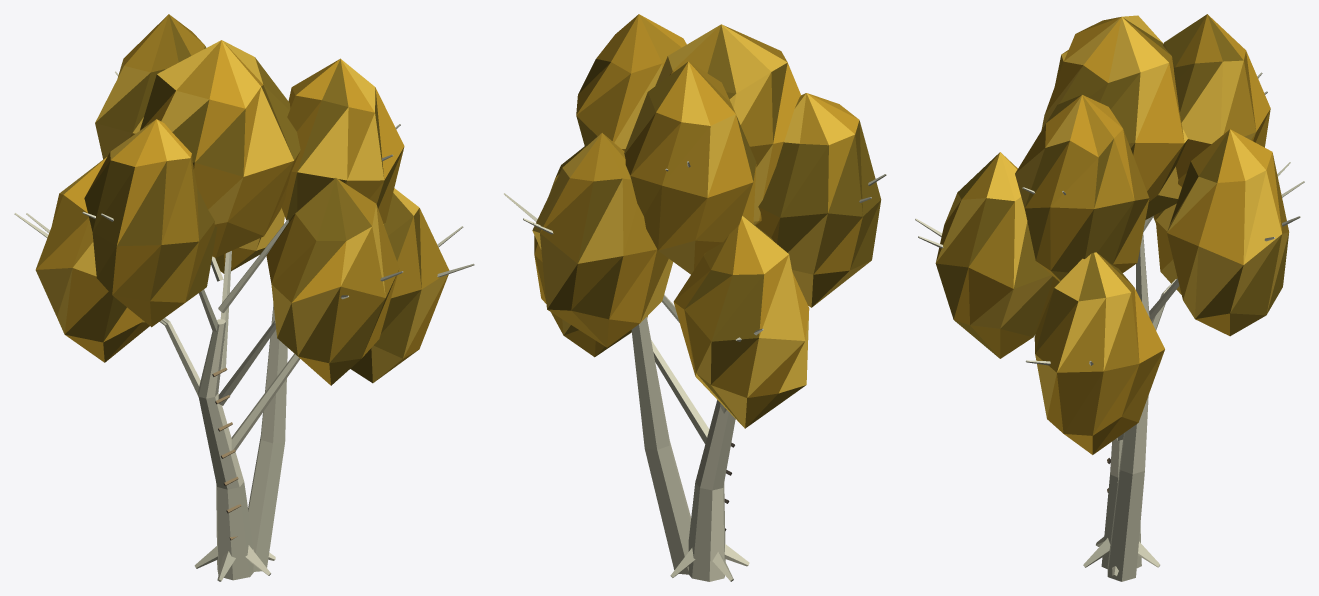
Rendered from tree_birch_twin.obj.
3 renders of one model, left to right at view 1: azimuth 30°, elevation 25°; view 2: azimuth 150°, elevation 25°; view 3: azimuth 270°, elevation 25°, orthographic. The views are drawn at different scales.
Visible parts, largest first — view 1: tree_birch_twin; view 2: tree_birch_twin; view 3: tree_birch_twin.
Boxes of the visible parts, bbox=[...] form: tree_birch_twin: bbox=[14, 14, 474, 581]; tree_birch_twin: bbox=[504, 14, 886, 581]; tree_birch_twin: bbox=[915, 14, 1304, 581].
Size of the model in its own units: 417 by 580 by 377.
1 material, 1 textured.
